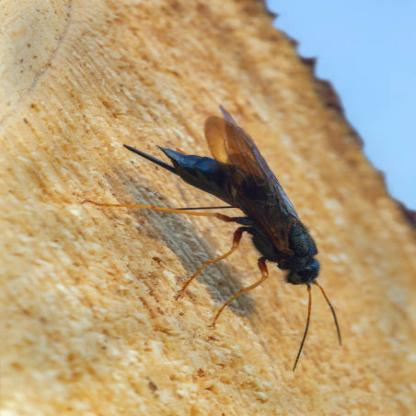sawfly: (78, 102, 353, 367)
